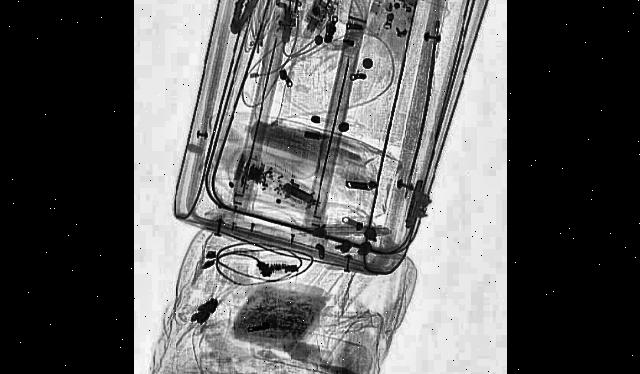Pliers: (225, 0, 294, 50)
